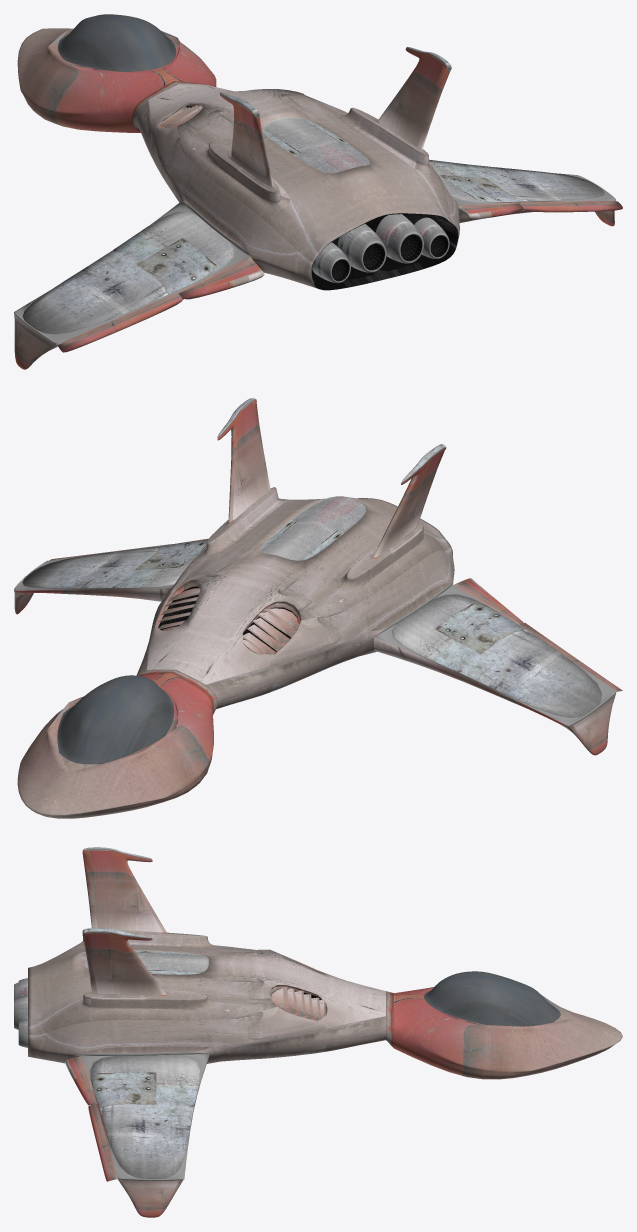
File: StarChaser4.FBX
3 renders of one model, top to bottom at view 1: azimuth 30°, elevation 25°; view 2: azimuth 150°, elevation 25°; view 3: azimuth 270°, elevation 25°, orthographic. The views are drawn at different scales.
Visible parts, largest first — view 1: Box02; view 2: Box02; view 3: Box02.
Part boxes in pixels (left/top/right/bottom): Box02: left=14, top=14, right=622, bottom=369; Box02: left=14, top=398, right=622, bottom=818; Box02: left=14, top=847, right=622, bottom=1217.
Size of the model in its own units: 45.78 by 47.32 by 17.64.
9 materials, 7 textured.
